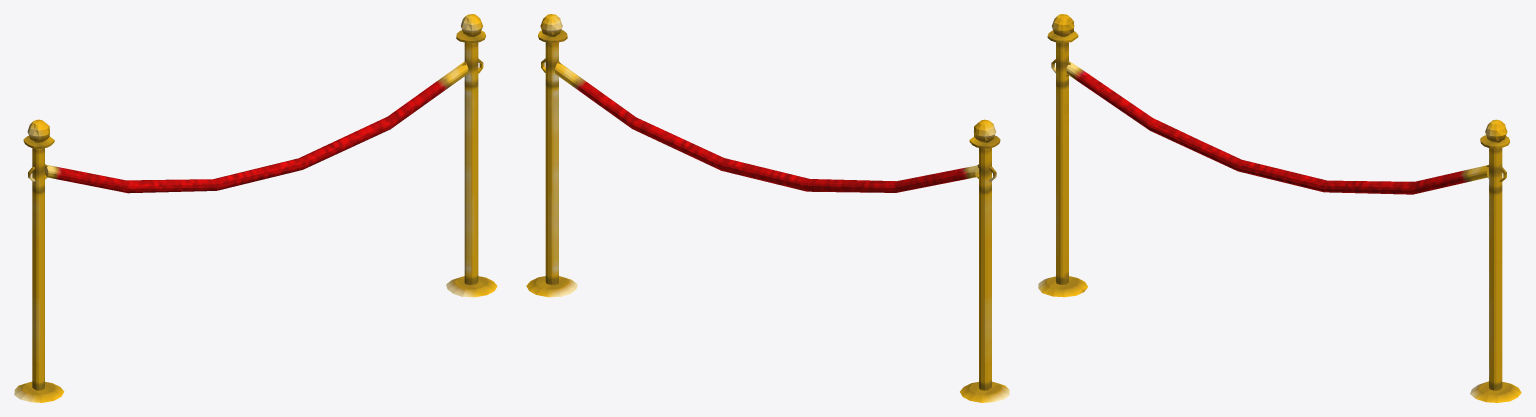
File: Bankthng.glb
3 views of the same model, side by side, from view 1: azimuth 30°, elevation 25°; view 2: azimuth 150°, elevation 25°; view 3: azimuth 330°, elevation 25° (orthographic).
Parts seen in each view (by area): view 1: Bankthng; view 2: Bankthng; view 3: Bankthng.
Part boxes in pixels (left/top/right/bottom): Bankthng: left=14, top=14, right=497, bottom=402; Bankthng: left=526, top=14, right=1009, bottom=402; Bankthng: left=1038, top=14, right=1521, bottom=402.
Size of the model in its own units: 218 by 119 by 19.93.
Materials: 1 (1 with a texture image).
